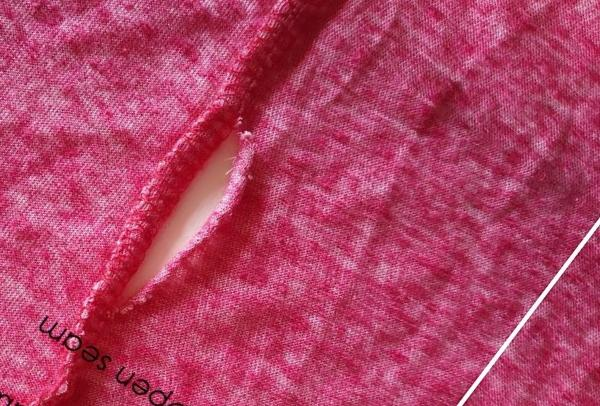hole: (110, 93, 256, 313)
